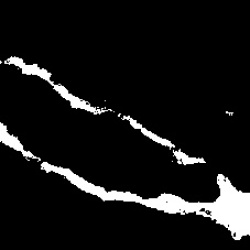crack: (3, 55, 207, 168), (41, 164, 248, 239), (1, 122, 43, 161)
pinhole: (223, 110, 234, 116)
